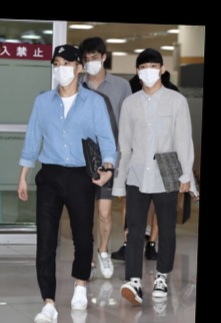with_mask: (52, 55, 77, 86), (137, 61, 161, 87), (81, 52, 104, 75)
